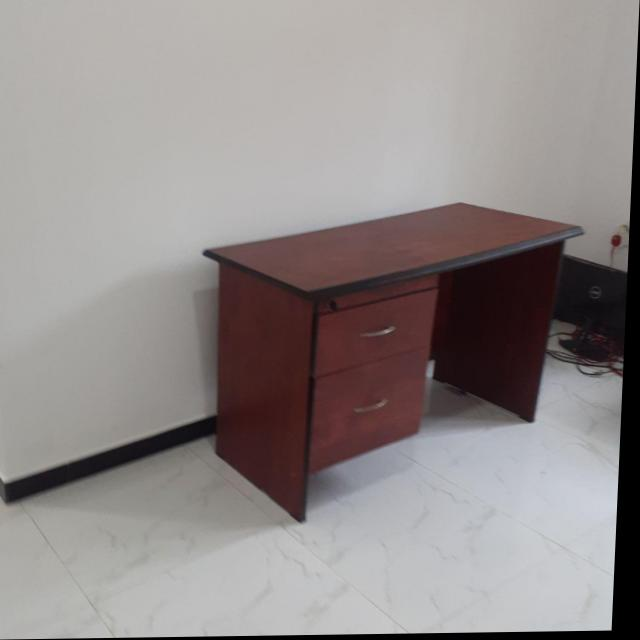Table: (159, 187, 603, 554)
